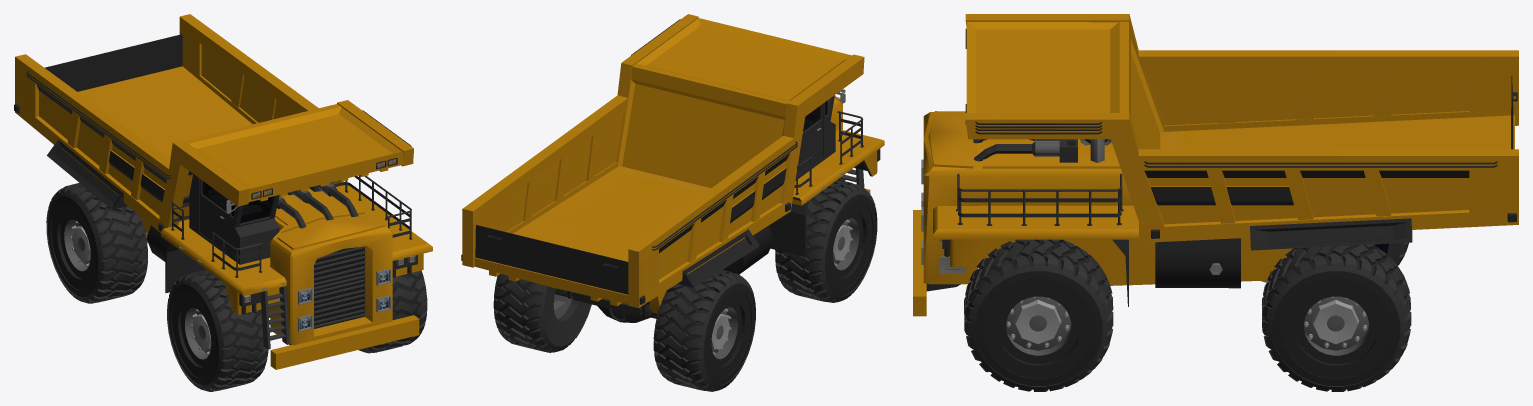
Rendered from Truck-3.FBX.
3 renders of one model, left to right at view 1: azimuth 30°, elevation 25°; view 2: azimuth 150°, elevation 25°; view 3: azimuth 270°, elevation 25°, orthographic. The views are drawn at different scales.
Visible parts, largest first — view 1: Back, Body, BR, FR, FL; view 2: Back, BR, Body, FR, BL; view 3: Back, Body, FL, BL.
Part boxes in pixels (left/top/right/bottom): Back: left=14, top=14, right=413, bottom=232; Body: left=141, top=174, right=432, bottom=369; BR: left=46, top=183, right=147, bottom=303; FR: left=167, top=269, right=268, bottom=391; FL: left=358, top=270, right=427, bottom=353; Back: left=461, top=14, right=864, bottom=307; BR: left=653, top=270, right=755, bottom=391; Body: left=555, top=89, right=884, bottom=322; FR: left=775, top=179, right=877, bottom=302; BL: left=493, top=274, right=591, bottom=352; Back: left=965, top=14, right=1518, bottom=250; Body: left=913, top=111, right=1388, bottom=316; FL: left=964, top=239, right=1113, bottom=391; BL: left=1262, top=244, right=1411, bottom=391.
Bounding box in the file's own units: 34.71 × 34.48 × 70.85.
